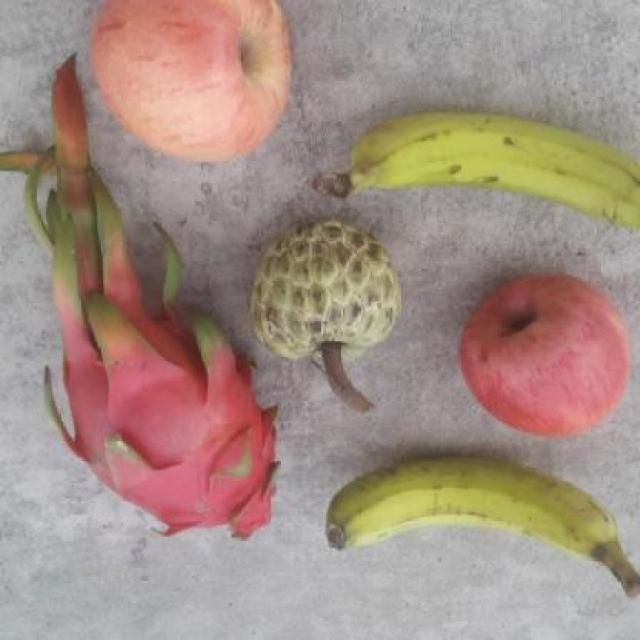apple: (88, 1, 304, 164), (459, 266, 636, 439)
banana: (319, 450, 639, 602), (339, 109, 639, 243)
dragon fruit: (15, 101, 282, 541)
sugar apple: (249, 212, 402, 368)
